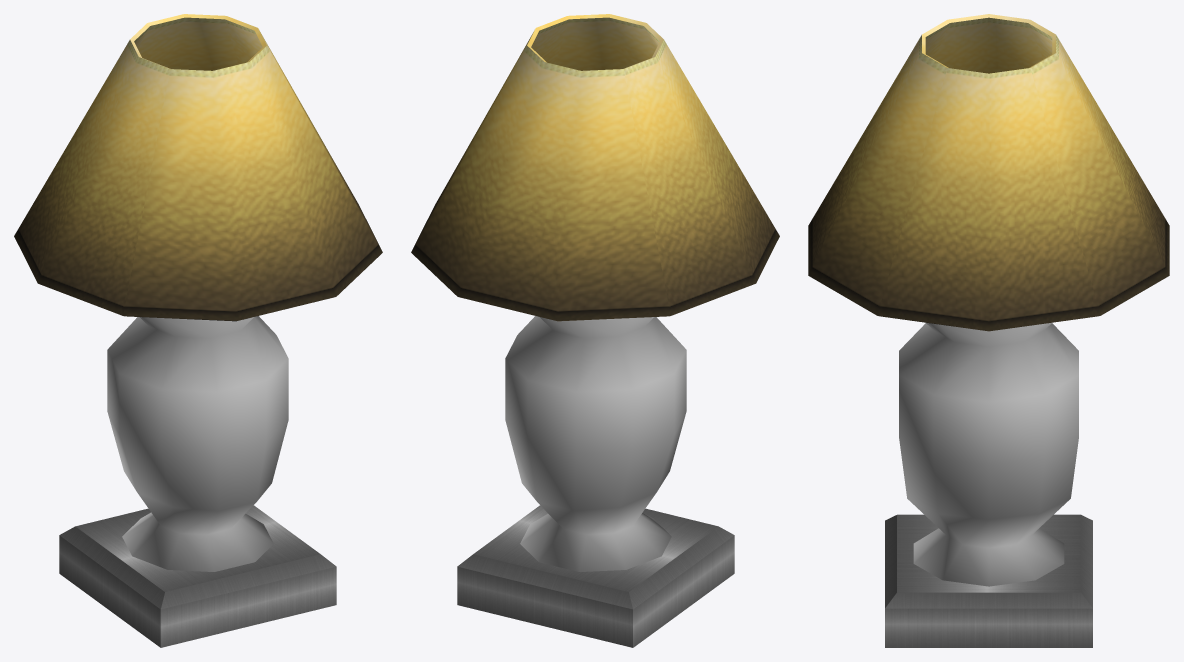
Rendered from Classic_Lamp_A.FBX.
3 renders of one model, left to right at view 1: azimuth 30°, elevation 25°; view 2: azimuth 150°, elevation 25°; view 3: azimuth 270°, elevation 25°, orthographic. The views are drawn at different scales.
Parts seen in each view (by area): view 1: Lamp; view 2: Lamp; view 3: Lamp.
Boxes of the visible parts, x1,y1,x2,y2 form: Lamp: (14,14,382,647); Lamp: (411,14,779,647); Lamp: (808,14,1169,647).
Size of the model in its own units: 82.2 by 134 by 78.18.
